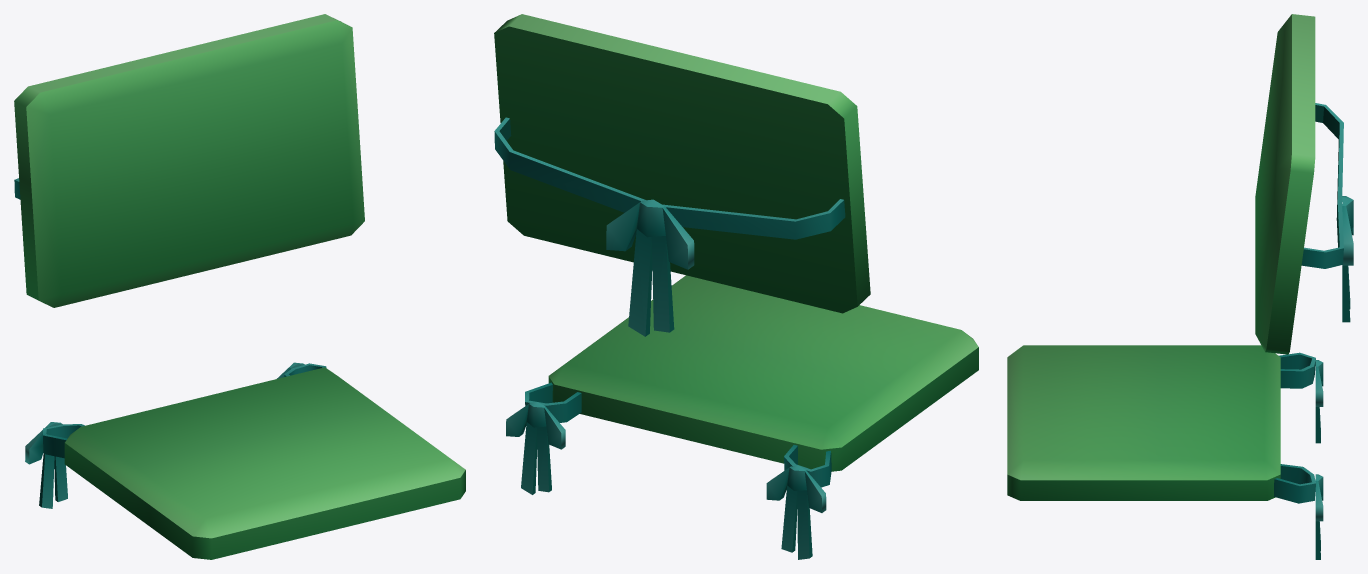
The model's file is CR_ChairCushion_01.FBX.
The picture shows the model from 3 angles, left to right: view 1: azimuth 30°, elevation 25°; view 2: azimuth 150°, elevation 25°; view 3: azimuth 270°, elevation 25°; orthographic projection. The views are drawn at different scales.
Visible parts, largest first — view 1: CR_ChairCushion_01; view 2: CR_ChairCushion_01; view 3: CR_ChairCushion_01.
Part boxes in pixels (x1,y1,x2,y2): CR_ChairCushion_01: (14,14,465,559); CR_ChairCushion_01: (494,14,978,559); CR_ChairCushion_01: (1007,14,1353,559).
Size of the model in its own units: 36.39 by 45.96 by 34.64.
